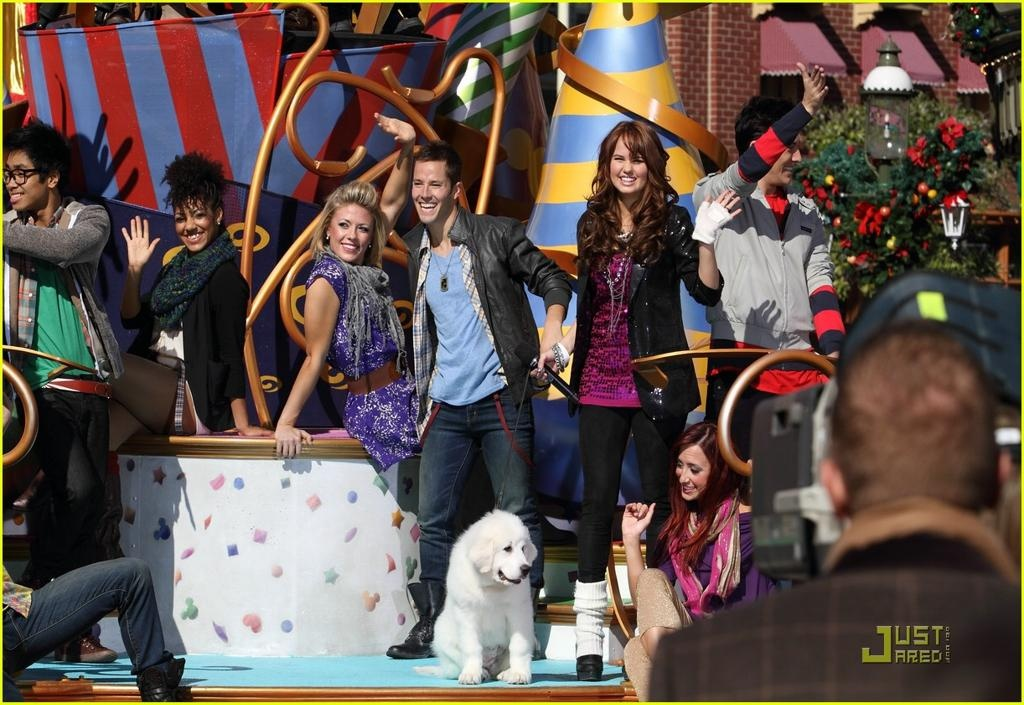human_face: (756, 122, 800, 184), (328, 203, 372, 261), (4, 152, 46, 210), (411, 160, 449, 224), (674, 446, 716, 502), (608, 136, 648, 192), (175, 202, 213, 250)
